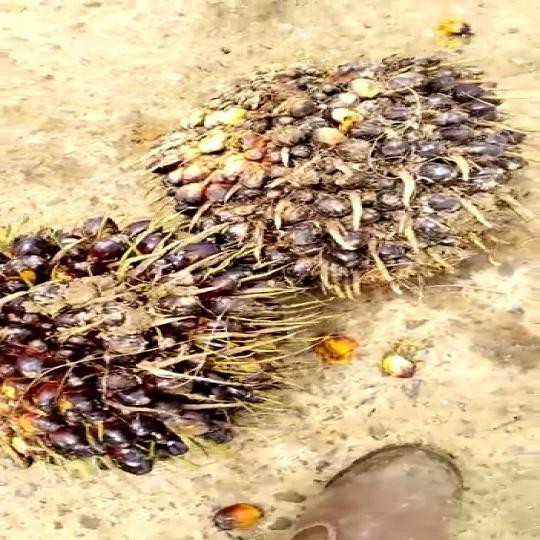mentah: (136, 55, 540, 296), (0, 201, 322, 488)
